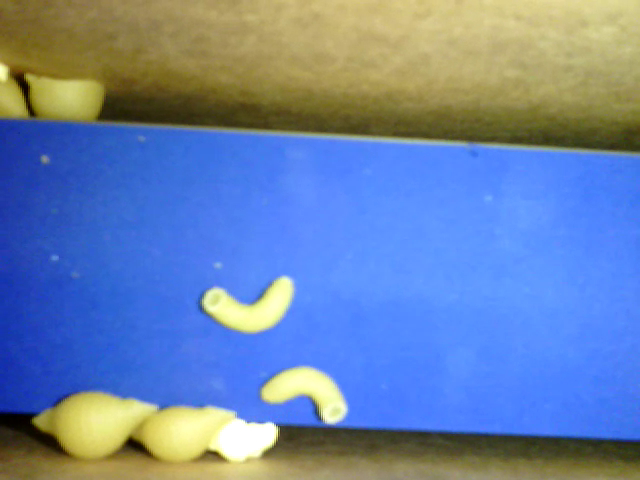elbow: (255, 364, 352, 428), (200, 277, 299, 332)
shell: (32, 390, 157, 465), (129, 405, 235, 462), (27, 74, 103, 127)
